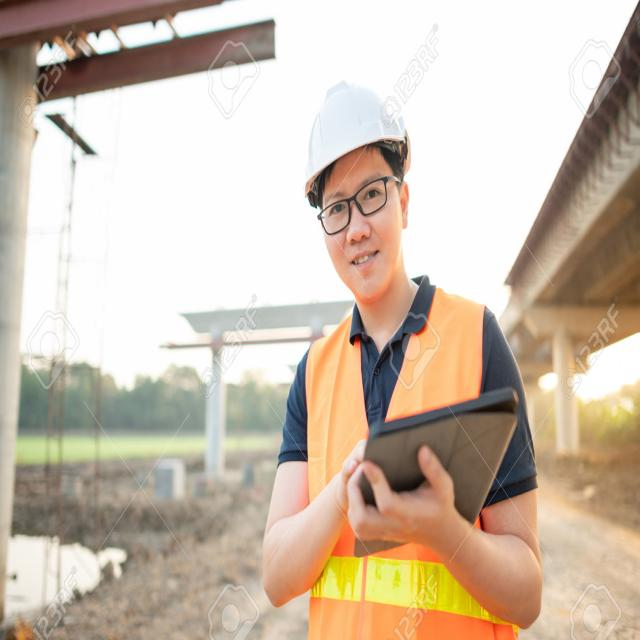goggles: (310, 183, 400, 220)
helmet: (292, 90, 416, 205)
vest: (304, 284, 500, 640)
